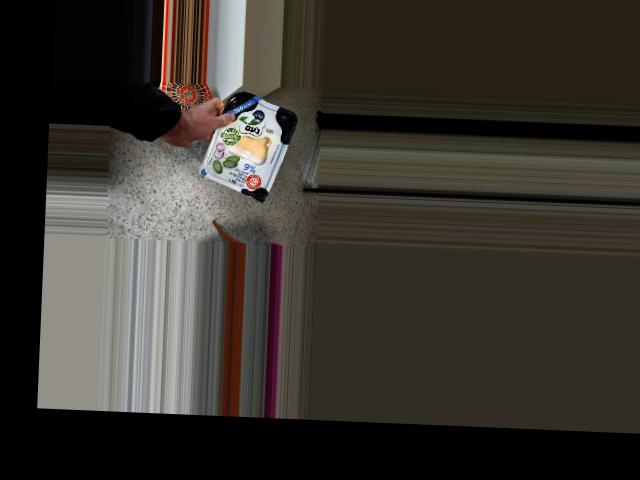cheese: (209, 101, 286, 192)
